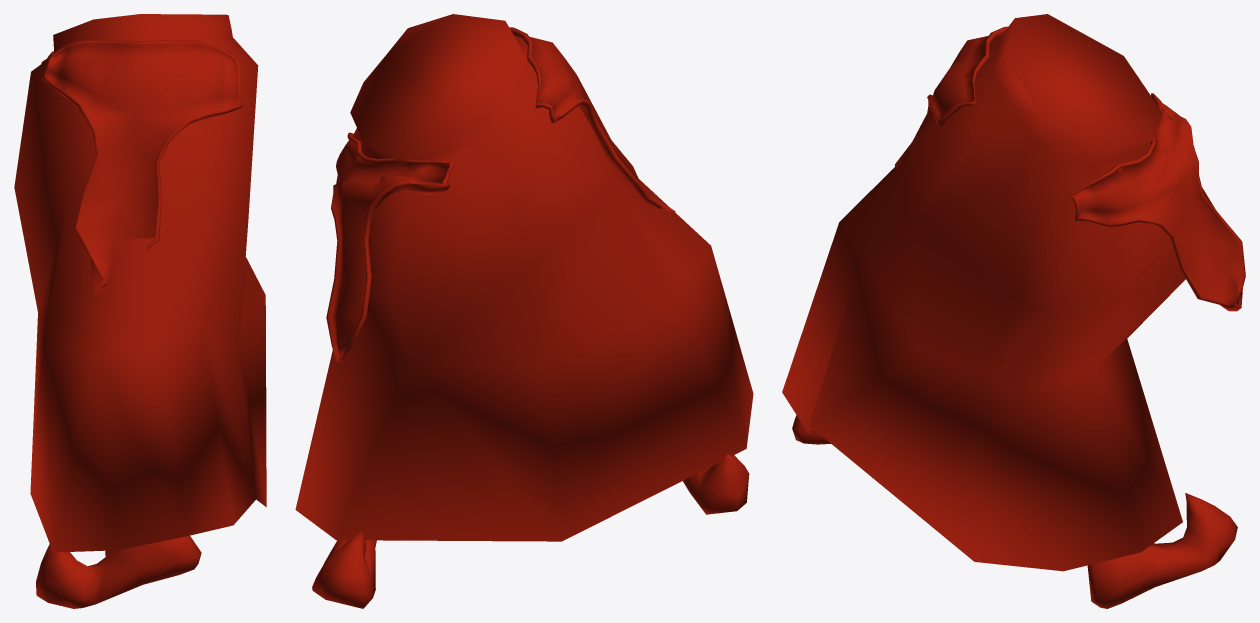
Rendered from bot_000068.obj.
The picture shows the model from 3 angles, left to right: view 1: azimuth 30°, elevation 25°; view 2: azimuth 150°, elevation 25°; view 3: azimuth 270°, elevation 25°; orthographic projection. The views are drawn at different scales.
Parts seen in each view (by area): view 1: LowPoly_Warlock.004_Plane.004; view 2: LowPoly_Warlock.004_Plane.004; view 3: LowPoly_Warlock.004_Plane.004.
Part boxes in pixels (<box>): LowPoly_Warlock.004_Plane.004: <box>14,14,266,608</box>; LowPoly_Warlock.004_Plane.004: <box>295,14,753,608</box>; LowPoly_Warlock.004_Plane.004: <box>782,14,1245,608</box>.
Size of the model in its own units: 0.6811 by 1.14 by 0.891.
